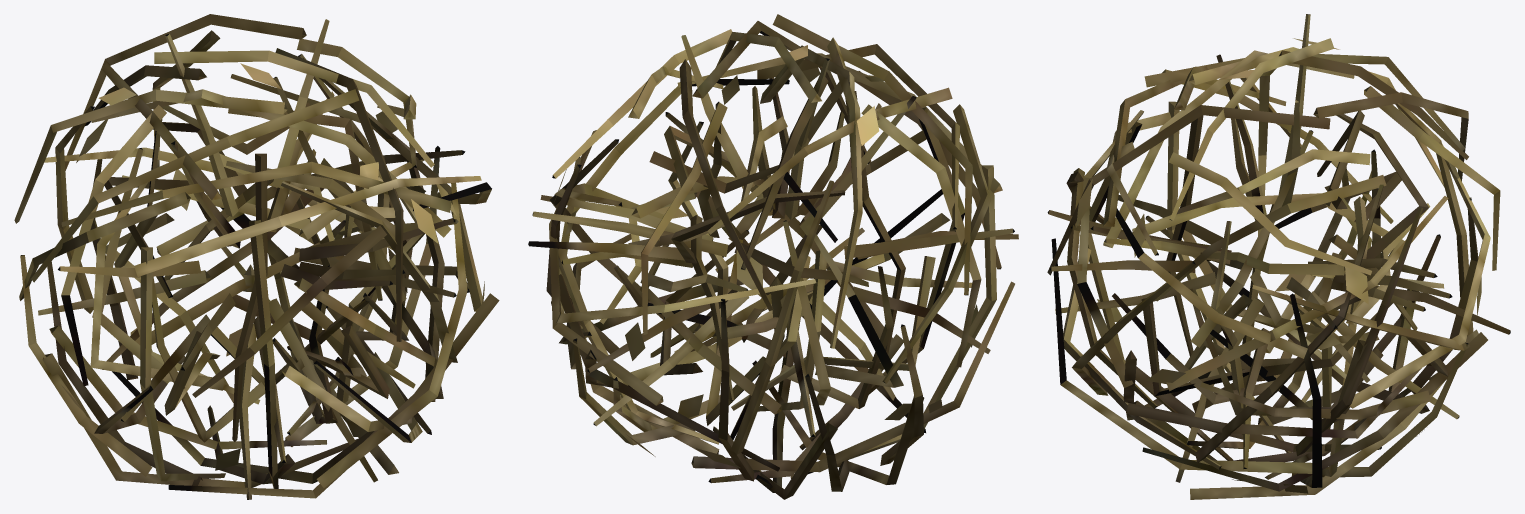
Rendered from tumbleweed.glb.
3 views of the same model, side by side, from view 1: azimuth 30°, elevation 25°; view 2: azimuth 150°, elevation 25°; view 3: azimuth 270°, elevation 25° (orthographic). The views are drawn at different scales.
Parts seen in each view (by area): view 1: Static_Mesh; view 2: Static_Mesh; view 3: Static_Mesh.
Part boxes in pixels (box(x1,y1,x2,y2)): Static_Mesh: box(14, 14, 499, 499); Static_Mesh: box(528, 14, 1018, 499); Static_Mesh: box(1047, 14, 1510, 499).
Size of the model in its own units: 0.8555 by 0.8571 by 0.8545.
1 material, 1 textured.
